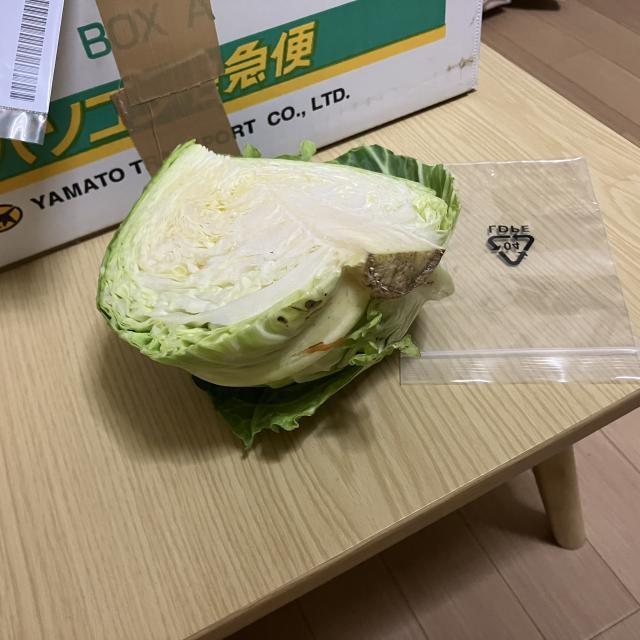cabbage: (97, 140, 464, 462)
